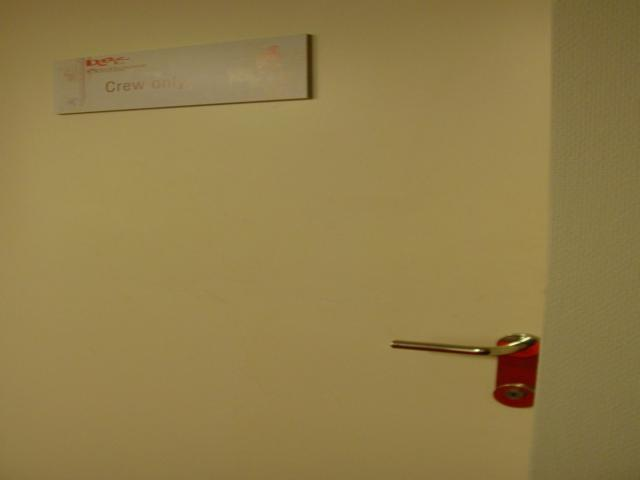Door-handle: (383, 330, 538, 412)
